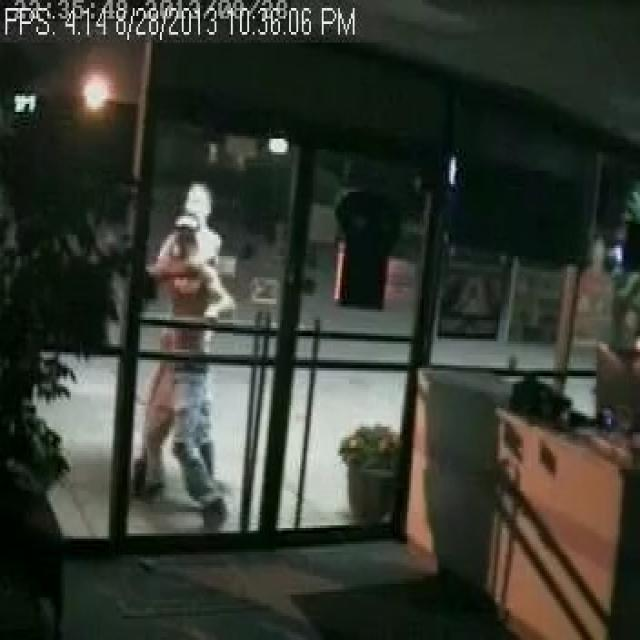fight: (120, 183, 250, 478)
